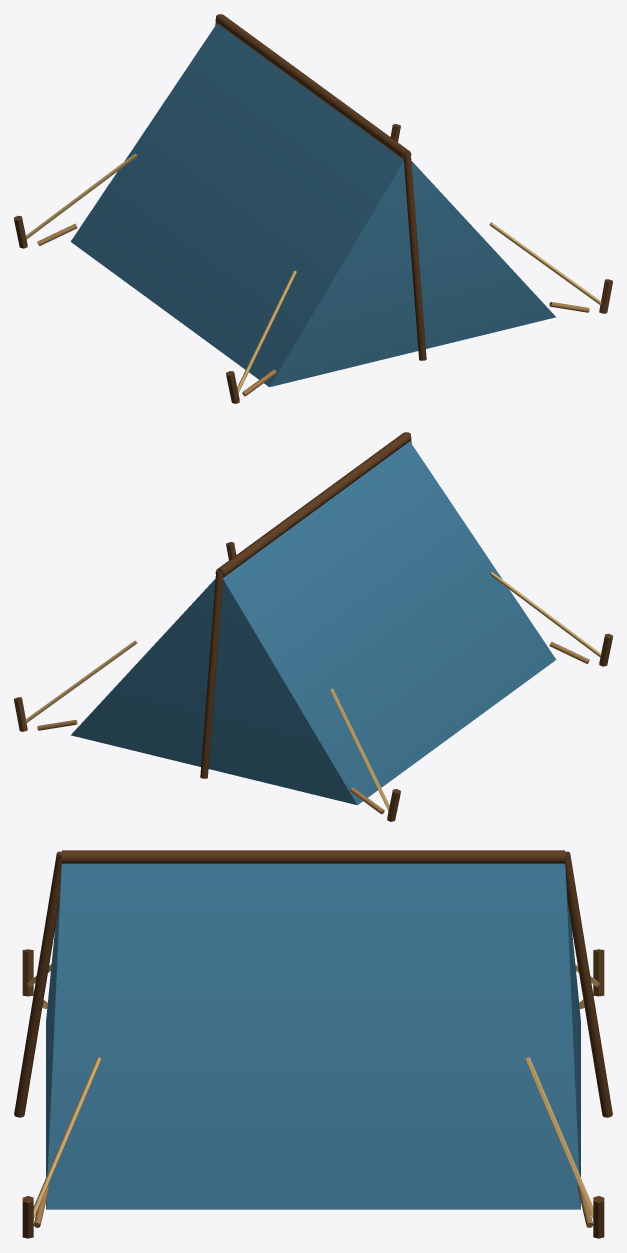
Rendered from tent_a.glb.
3 views of the same model, one above another, from view 1: azimuth 30°, elevation 25°; view 2: azimuth 150°, elevation 25°; view 3: azimuth 270°, elevation 25° (orthographic). The views are drawn at different scales.
Visible parts, largest first — view 1: tent_a, tent_a_craft; view 2: tent_a, tent_a_craft; view 3: tent_a, tent_a_craft.
Part boxes in pixels (x1,y1,x2,y2): tent_a: [37, 14, 589, 396]; tent_a_craft: [14, 124, 612, 403]; tent_a: [37, 432, 589, 814]; tent_a_craft: [14, 542, 612, 821]; tent_a: [14, 850, 612, 1227]; tent_a_craft: [22, 949, 604, 1238].
Bounding box in the file's own units: 3.37 × 1.64 × 3.36.
